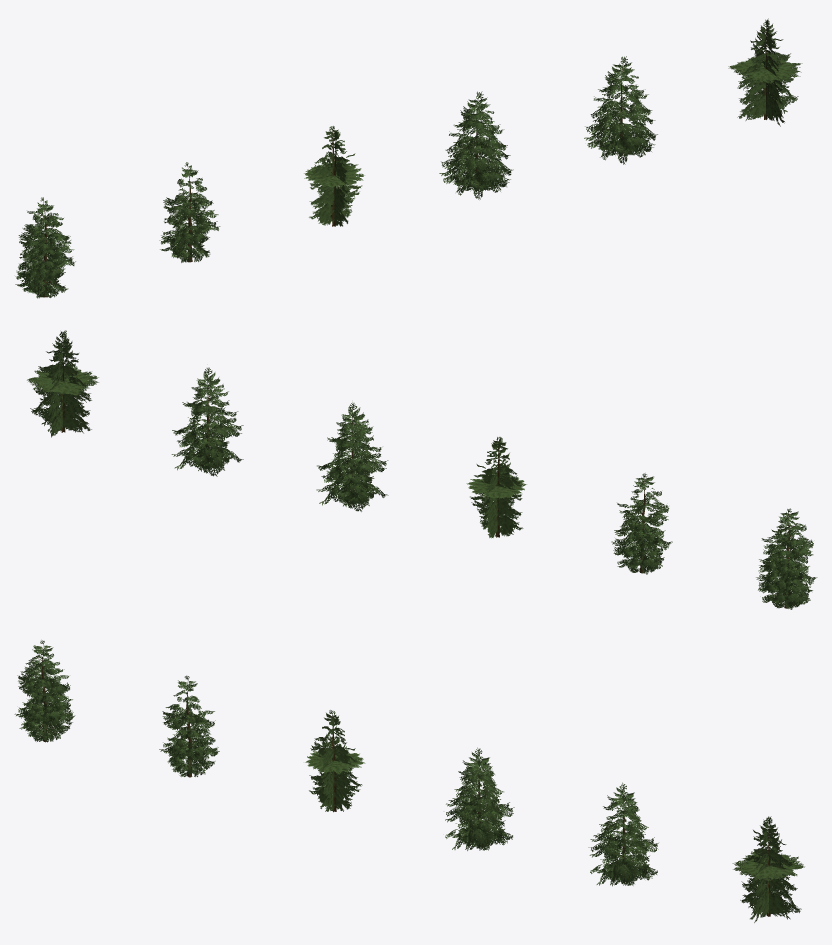
Rendered from firs.glb.
3 views of the same model, one above another, from view 1: azimuth 30°, elevation 25°; view 2: azimuth 150°, elevation 25°; view 3: azimuth 330°, elevation 25° (orthographic).
Visible parts, largest first — view 1: firmid_near, firmid_mid, firmid_far, firtall_near, firtall_mid, firtall_far; view 2: firmid_near, firmid_mid, firmid_far, firtall_near, firtall_mid, firtall_far; view 3: firmid_near, firmid_mid, firmid_far, firtall_near, firtall_mid, firtall_far.
Part boxes in pixels (<box>): firmid_near: <box>439,91,513,199</box>; firmid_mid: <box>584,56,657,164</box>; firmid_far: <box>728,18,802,126</box>; firtall_near: <box>15,197,75,298</box>; firtall_mid: <box>159,162,220,262</box>; firtall_far: <box>304,126,364,226</box>; firmid_near: <box>316,402,388,511</box>; firmid_mid: <box>171,367,243,476</box>; firmid_far: <box>27,330,98,437</box>; firtall_near: <box>756,508,817,609</box>; firtall_mid: <box>611,473,672,574</box>; firtall_far: <box>466,437,526,538</box>; firmid_near: <box>445,747,514,850</box>; firmid_mid: <box>588,782,658,886</box>; firmid_far: <box>732,816,804,922</box>; firtall_near: <box>14,640,75,742</box>; firtall_mid: <box>159,675,219,777</box>; firtall_far: <box>305,710,365,812</box>.
Size of the model in its own units: 8.11 by 1 by 0.6625.
4 materials, 4 textured.
